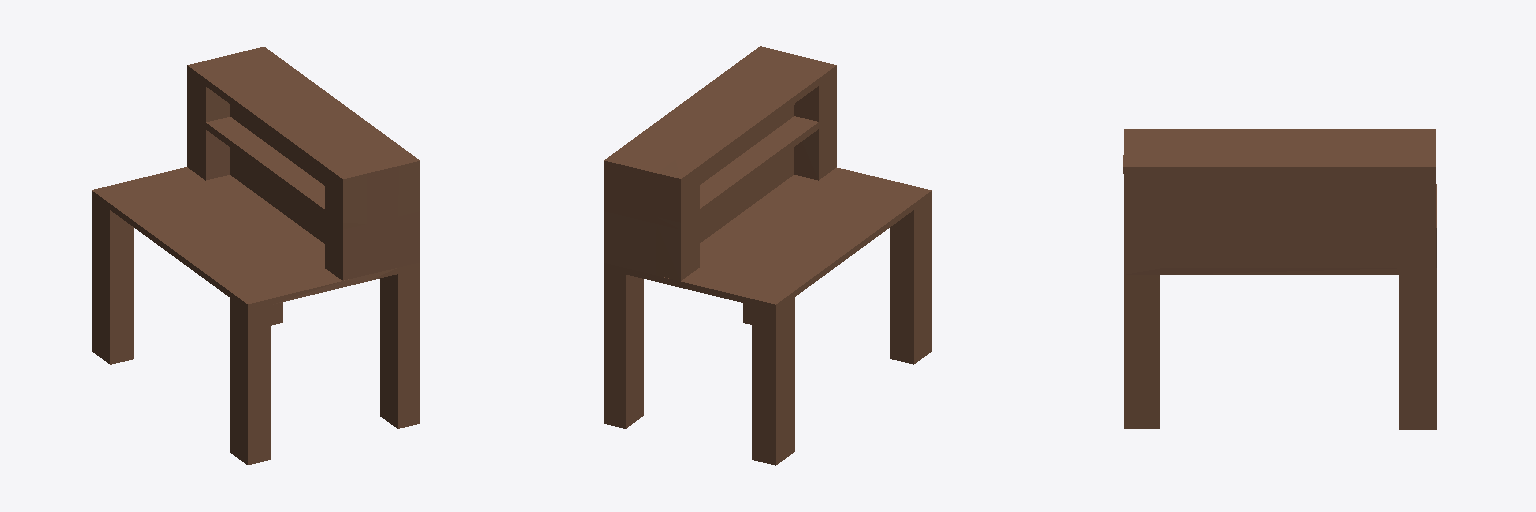
File: desk.obj
The picture shows the model from 3 angles: view 1: azimuth 30°, elevation 25°; view 2: azimuth 150°, elevation 25°; view 3: azimuth 270°, elevation 25°; orthographic projection.
Parts seen in each view (by area): view 1: pCube1; view 2: pCube1; view 3: pCube1.
Part boxes in pixels (left/top/right/bottom): pCube1: left=92, top=47, right=419, bottom=464; pCube1: left=604, top=46, right=931, bottom=465; pCube1: left=1123, top=129, right=1436, bottom=429.
Bounding box in the file's own units: 10.59 × 15.46 × 16.65.